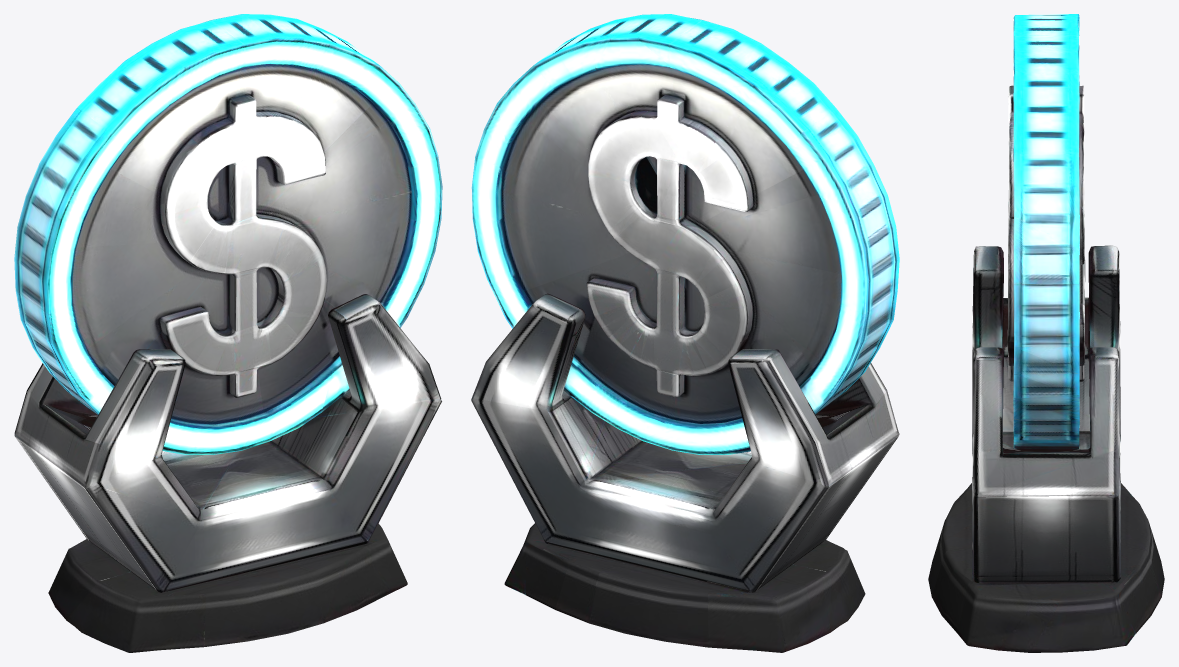
Rendered from silver_dollar.glb.
The picture shows the model from 3 angles, left to right: view 1: azimuth 30°, elevation 25°; view 2: azimuth 150°, elevation 25°; view 3: azimuth 270°, elevation 25°; orthographic projection. The views are drawn at different scales.
Bounding box in the file's own units: 0.7441 × 1 × 0.3945.
Materials: 1 (1 with a texture image).
